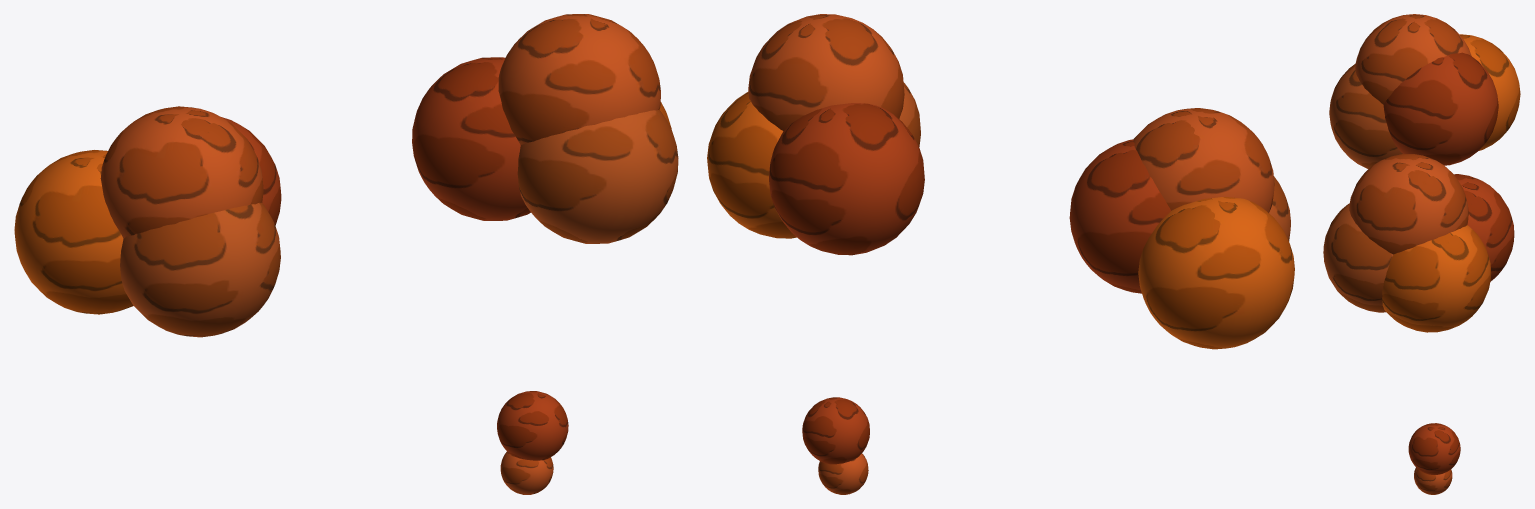
The model's file is item-fall-leaves.glb.
3 renders of one model, left to right at view 1: azimuth 30°, elevation 25°; view 2: azimuth 150°, elevation 25°; view 3: azimuth 270°, elevation 25°, orthographic. The views are drawn at different scales.
Bounding box in the file's own units: 0.3735 × 0.2752 × 0.142.
4 materials, 4 textured.
